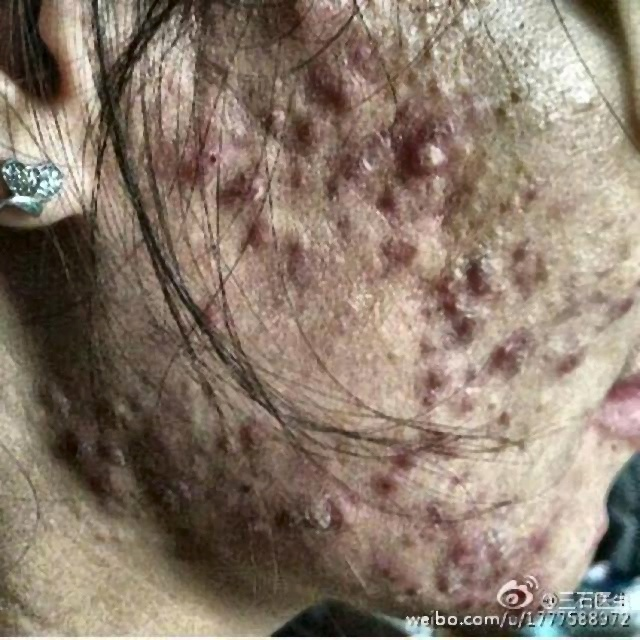nodule: (92, 393, 146, 435), (422, 90, 471, 130), (333, 40, 387, 75), (159, 475, 201, 516), (488, 82, 530, 123), (226, 425, 268, 465), (281, 228, 317, 274), (521, 523, 568, 558), (472, 414, 518, 449), (328, 145, 368, 185), (277, 112, 312, 157), (354, 122, 400, 156), (512, 172, 548, 215), (316, 489, 352, 531), (457, 558, 493, 600), (405, 133, 437, 180), (259, 94, 287, 147), (377, 537, 409, 582), (222, 467, 262, 502), (451, 377, 485, 417), (314, 87, 362, 115), (382, 235, 414, 275), (546, 336, 575, 380), (411, 368, 446, 404), (475, 520, 512, 554), (604, 283, 631, 329), (405, 6, 445, 37), (408, 328, 443, 363), (470, 254, 502, 292), (455, 308, 487, 345), (504, 242, 536, 278), (409, 494, 445, 526), (428, 574, 456, 613), (378, 187, 411, 220), (412, 33, 444, 66), (198, 296, 225, 334), (445, 132, 478, 163), (448, 536, 482, 566), (97, 441, 135, 467), (491, 335, 520, 369), (229, 176, 262, 205), (373, 462, 405, 491), (284, 162, 313, 192), (438, 272, 464, 305), (330, 206, 360, 234), (242, 211, 266, 244), (446, 465, 474, 491), (182, 151, 208, 175), (386, 586, 412, 609), (414, 571, 434, 597), (499, 556, 518, 576), (479, 594, 490, 604)
